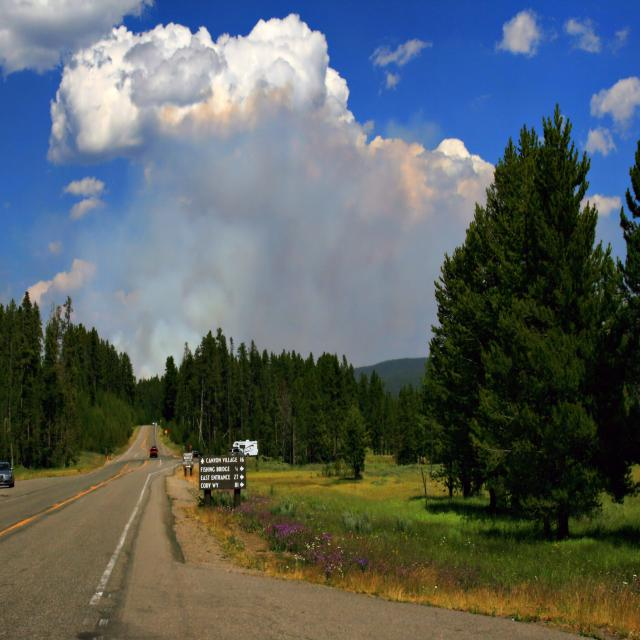Smoke: (70, 40, 537, 414)
